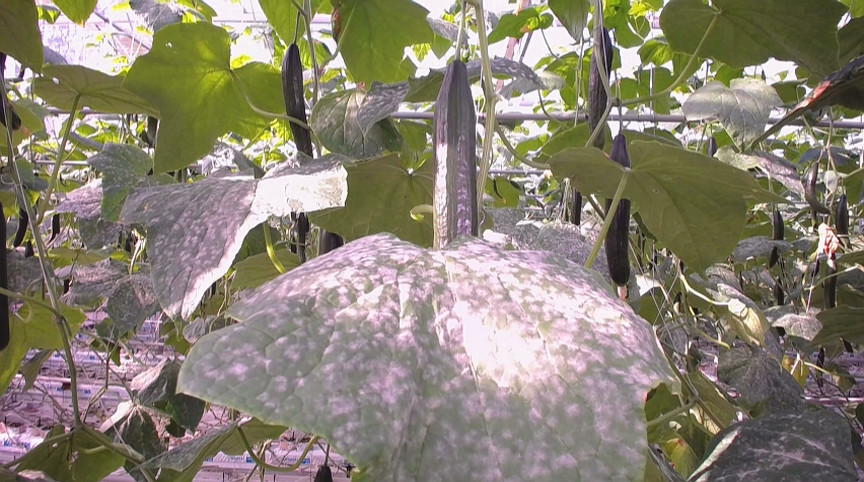cucumber: (432, 60, 481, 244), (280, 44, 315, 158), (605, 134, 631, 284), (588, 29, 607, 149), (805, 163, 834, 215), (769, 209, 786, 269)
